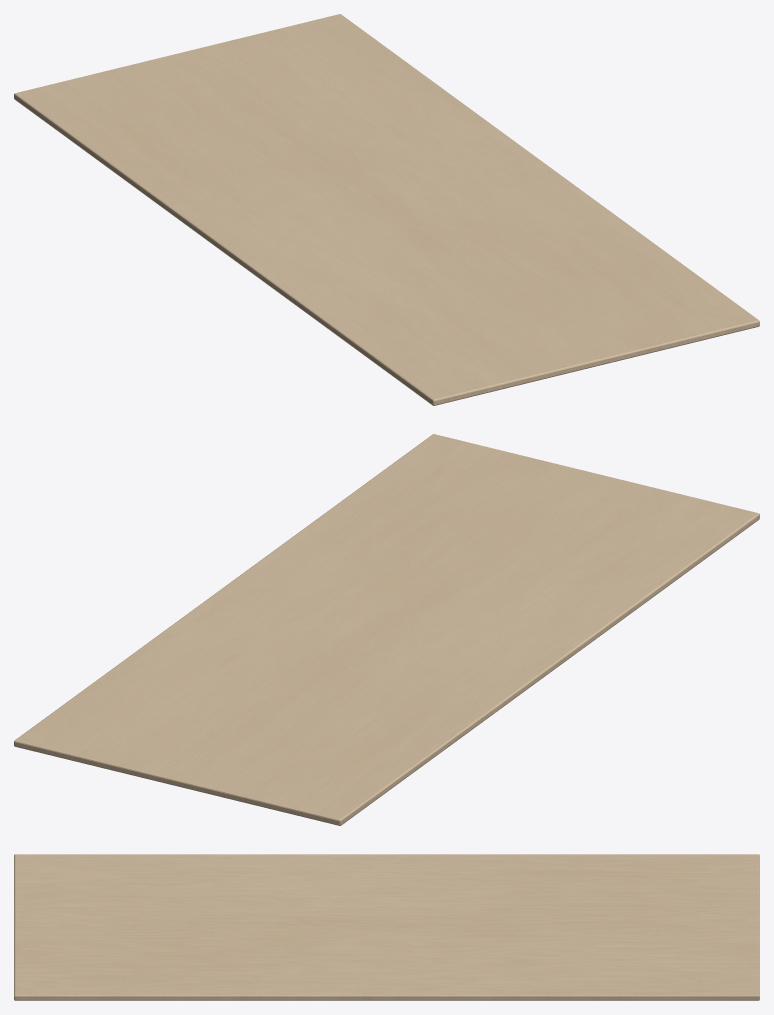
Rendered from ceiling.gltf.
3 views of the same model, one above another, from view 1: azimuth 30°, elevation 25°; view 2: azimuth 150°, elevation 25°; view 3: azimuth 270°, elevation 25° (orthographic). The views are drawn at different scales.
Parts seen in each view (by area): view 1: Plane.105; view 2: Plane.105; view 3: Plane.105.
Part boxes in pixels (left/top/right/bottom): Plane.105: left=14, top=14, right=759, bottom=405; Plane.105: left=14, top=434, right=759, bottom=825; Plane.105: left=14, top=854, right=759, bottom=1000.
Size of the model in its own units: 2.7 by 0.0502 by 6.
1 material, 1 textured.
